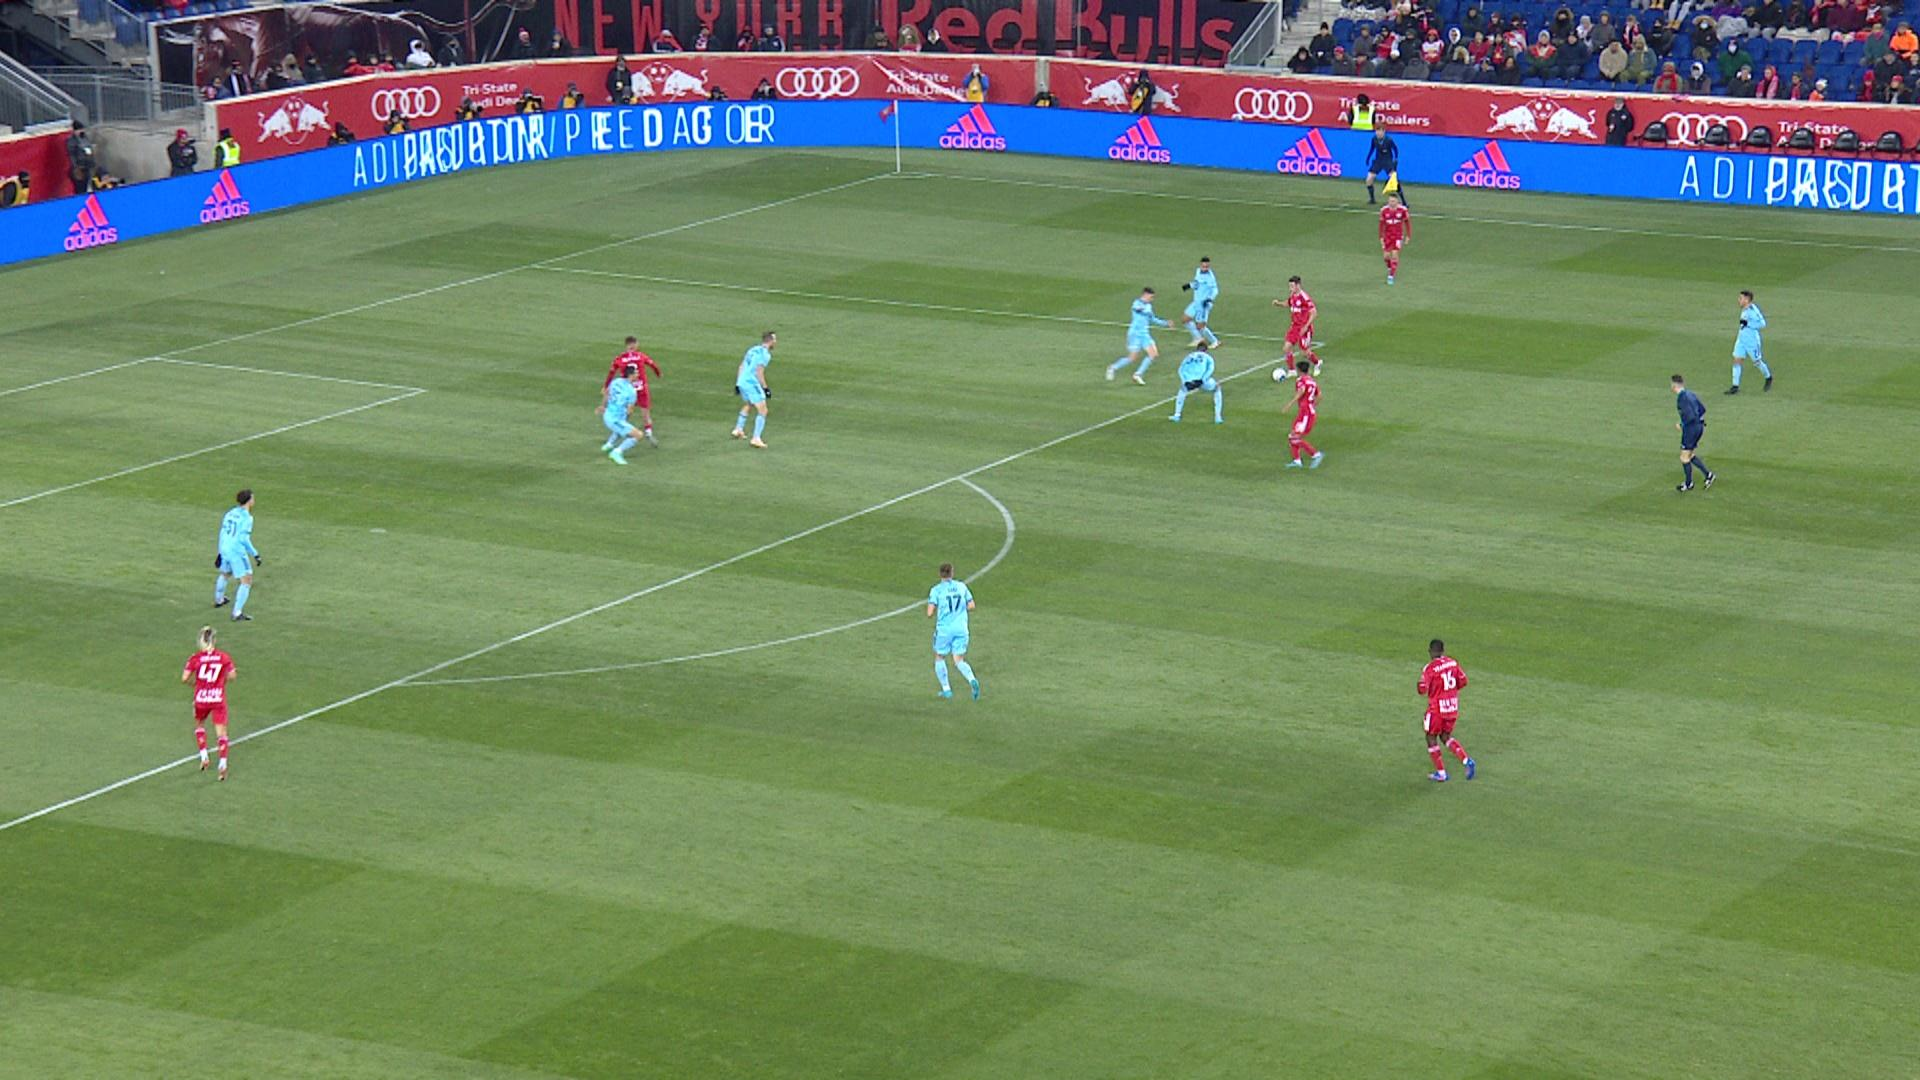football: (1271, 368, 1286, 383)
